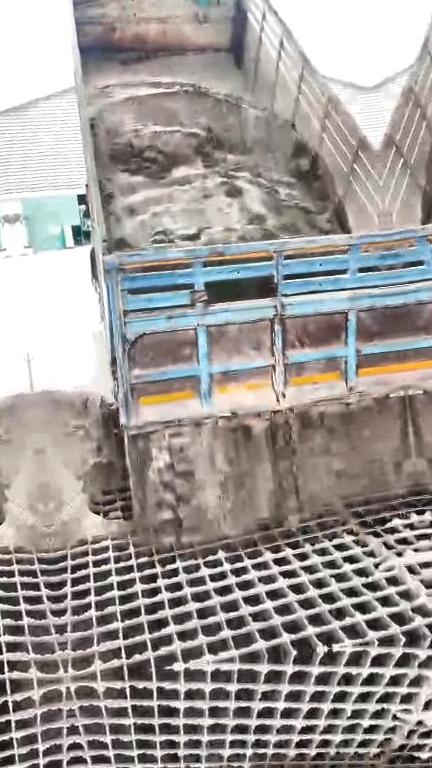sand: (32, 391, 417, 546), (91, 83, 348, 248)
